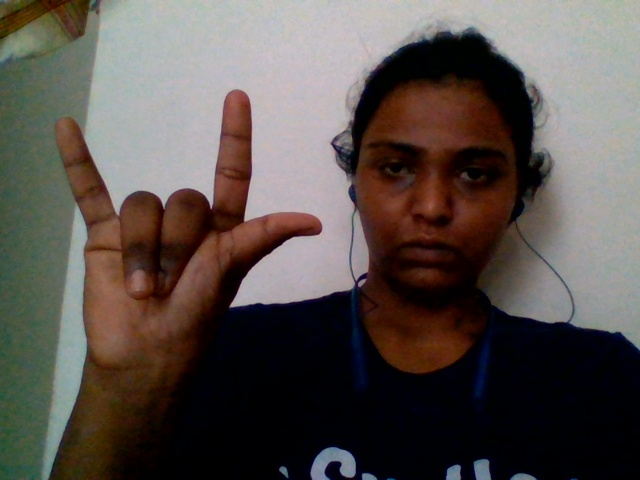IloveYou: (37, 48, 335, 380)
